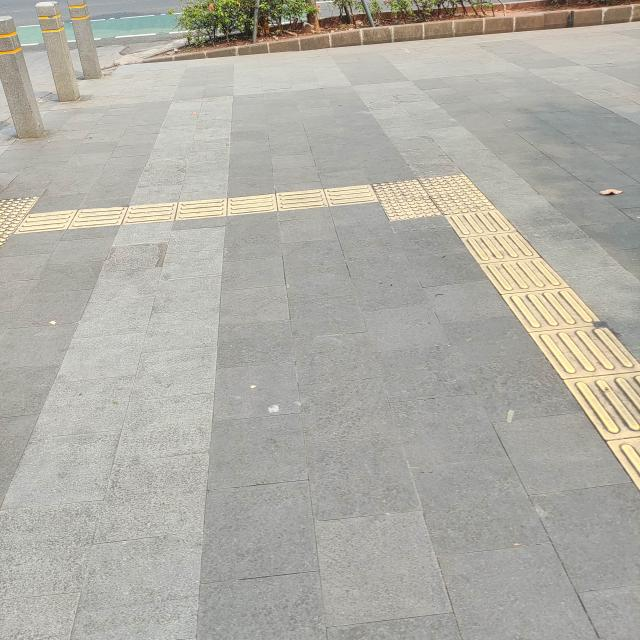kiri: (289, 141, 534, 254)
